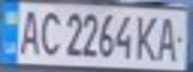2: (60, 8, 84, 59), (78, 9, 100, 58)
4: (115, 11, 139, 60)
6: (97, 10, 118, 60)
A: (154, 12, 184, 63), (15, 6, 42, 56)
C: (36, 7, 63, 57)
K: (133, 12, 160, 62)
